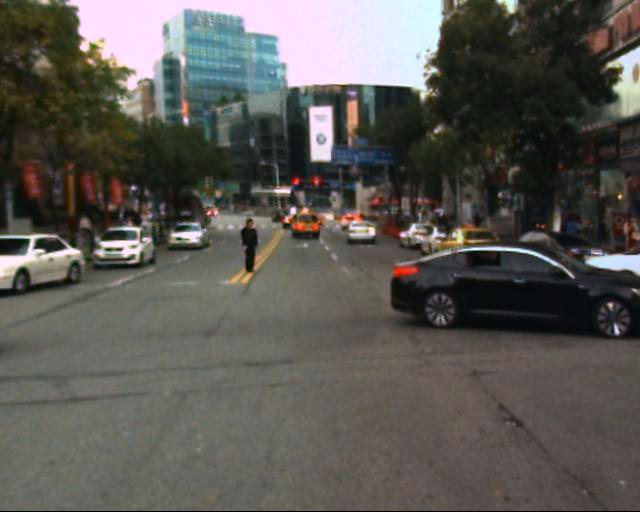person: (235, 215, 264, 278), (614, 211, 640, 262), (570, 205, 593, 257), (552, 207, 577, 252)
